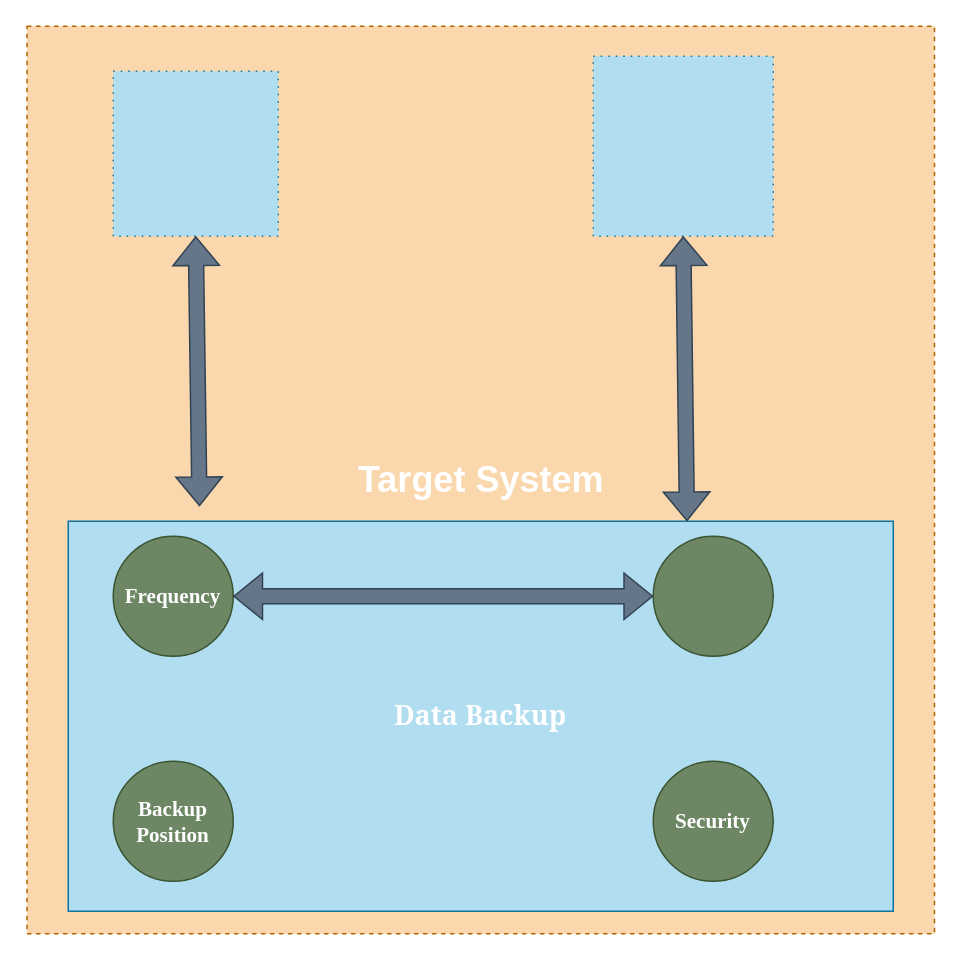
The diagram is 960 pixels wide and 960 high, and some of its shapes have lost their labels. The shapes that lost their labels are listed below. From the top down, each one's centre as x and y in pixels, then its label:
At (195,153): "File #".
At (682,145): "File Permissions User Group, RW".
At (712,595): "Access Control".
